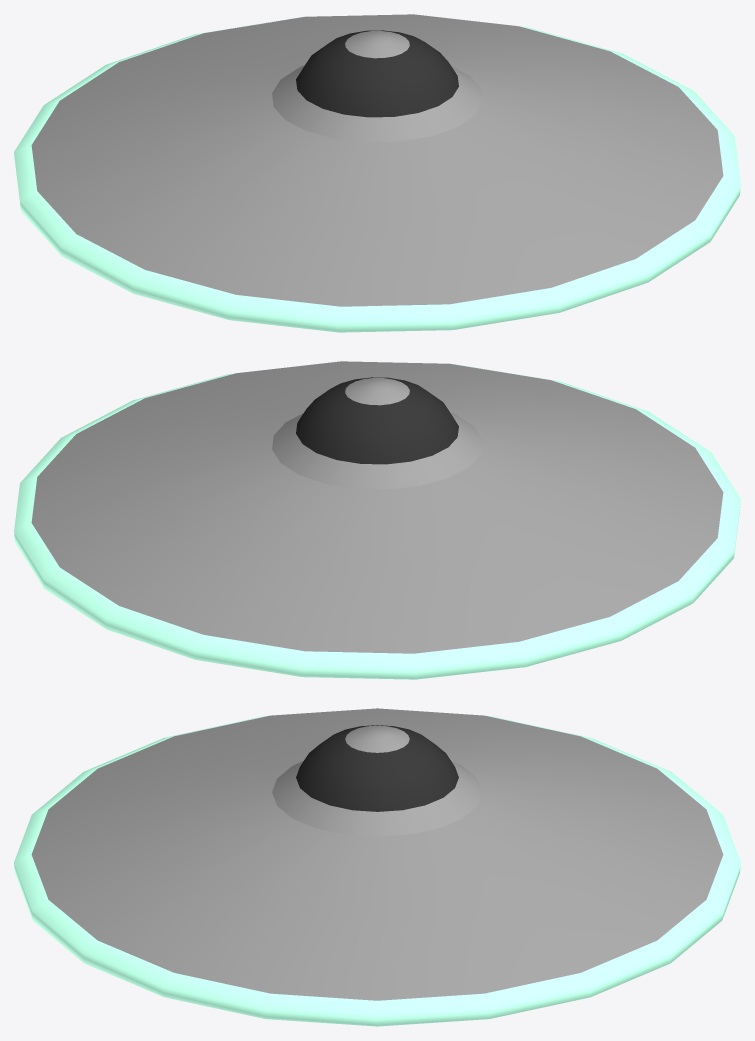
File: saucer.fbx
3 views of the same model, one above another, from view 1: azimuth 30°, elevation 25°; view 2: azimuth 150°, elevation 25°; view 3: azimuth 270°, elevation 25° (orthographic).
Parts seen in each view (by area): view 1: model_saucer01_1; view 2: model_saucer01_1; view 3: model_saucer01_1.
Part boxes in pixels (x1,y1,x2,y2): model_saucer01_1: [14, 14, 740, 332]; model_saucer01_1: [14, 361, 740, 679]; model_saucer01_1: [14, 708, 740, 1026].
Size of the model in its own units: 12.65 by 4.4 by 12.65.
